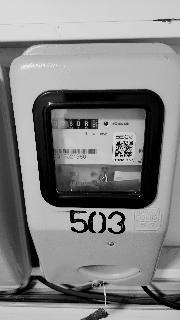1: (78, 121, 81, 126), (54, 122, 57, 127)
3: (62, 122, 65, 127)
9: (85, 122, 88, 127), (70, 121, 73, 126)
:: (93, 122, 96, 127)
